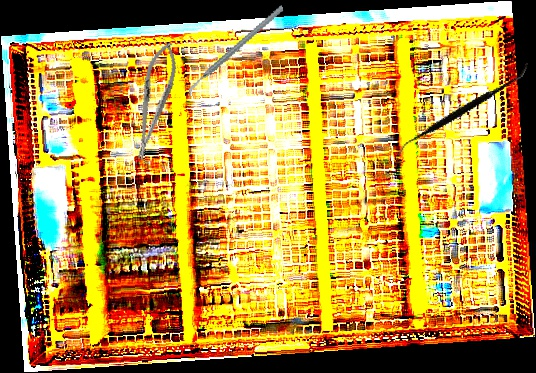Chopper: (171, 4, 301, 99)
Needle Holder: (124, 39, 184, 163)
Spatula Surgical: (396, 28, 529, 190)
